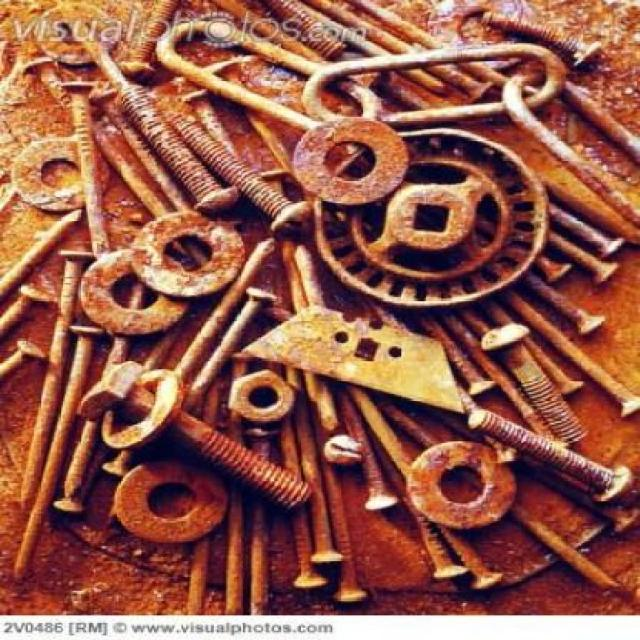corrosion: (0, 15, 635, 612)
